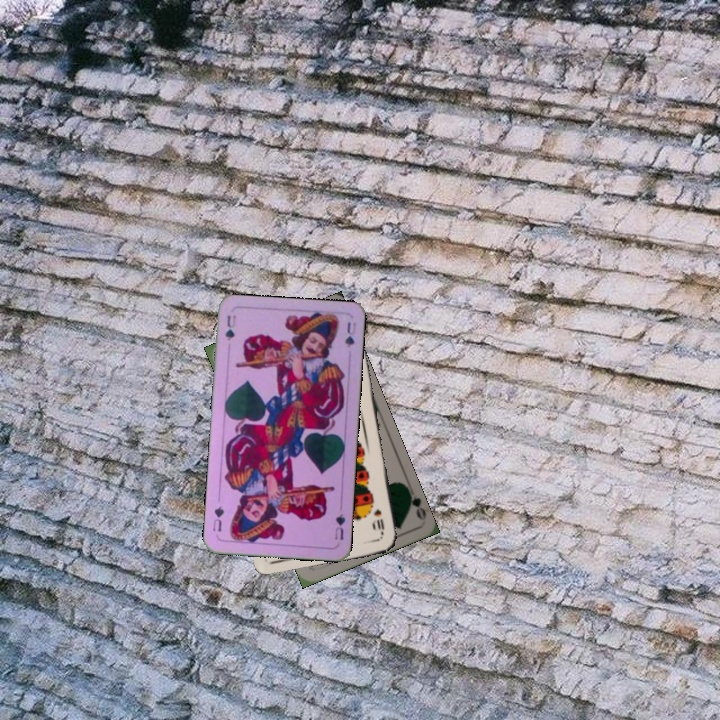GO: (403, 484, 429, 522)
GU: (221, 311, 238, 343), (331, 510, 347, 542)
S10: (370, 505, 387, 538)
